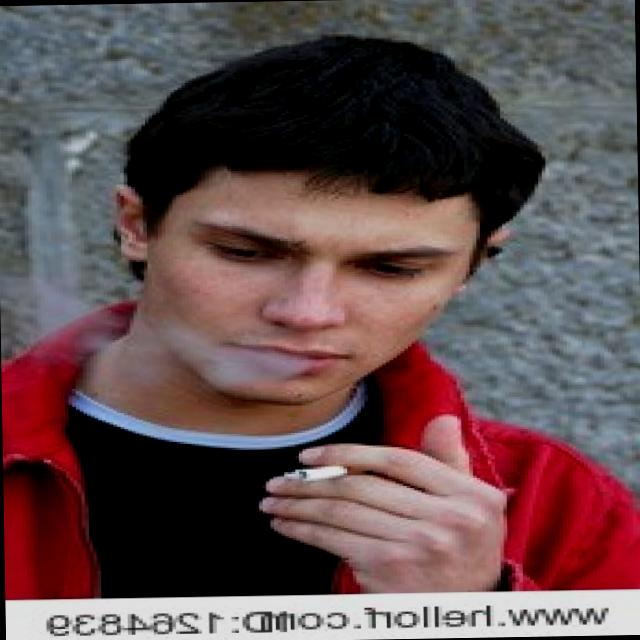smoke: (276, 451, 363, 487)
